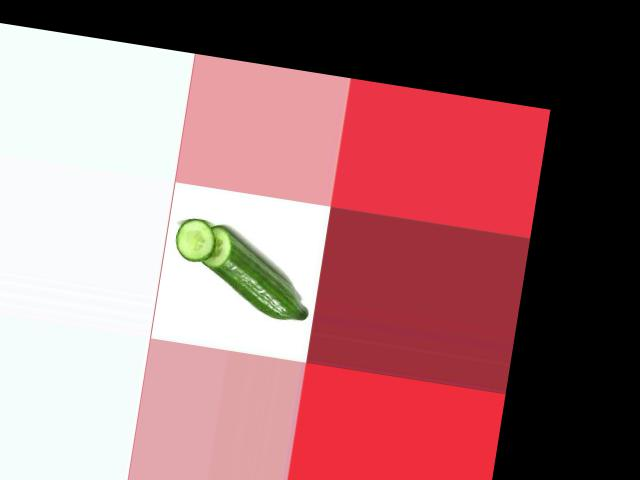cucumber: (192, 223, 319, 322)
